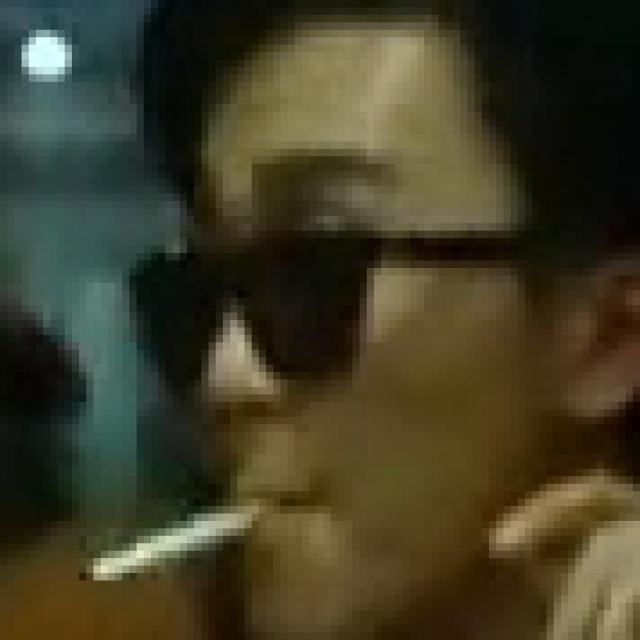smoking: (82, 496, 268, 589)
